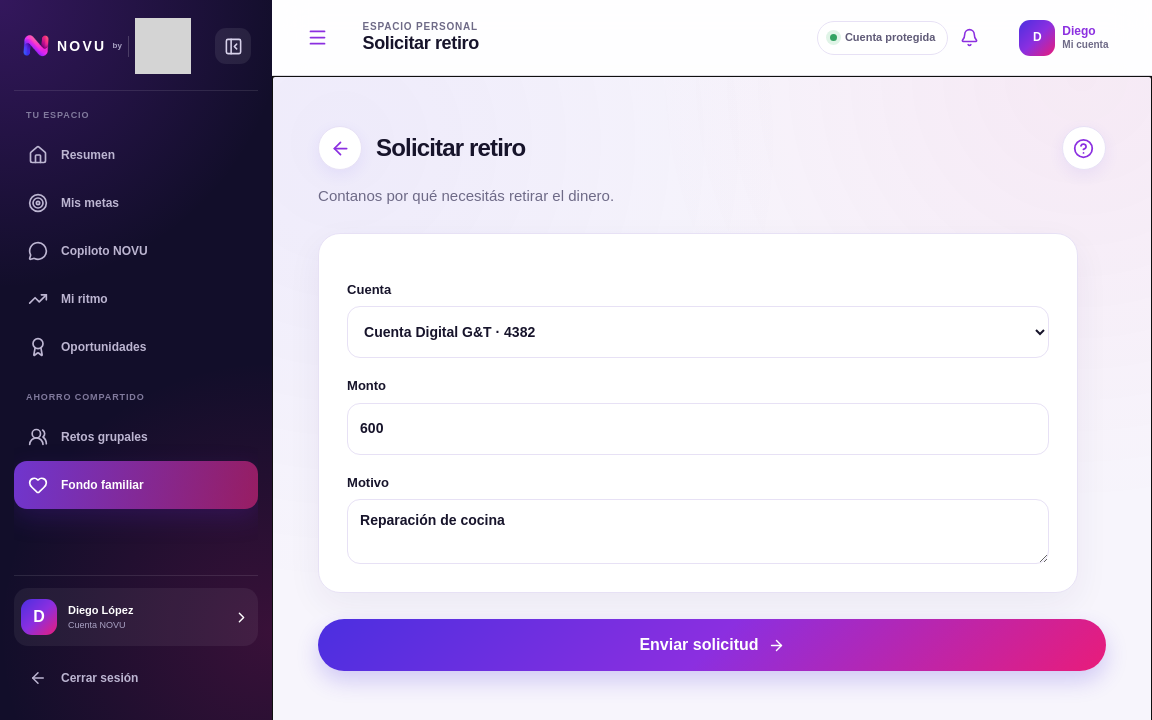
Test: solicitudes del fondo familiar › crea una solicitud y la incorpora al listado
Replace the text in the number field labelled "Monto" with "350" at (698, 429), box x1=347 y1=403 x2=1049 y2=455
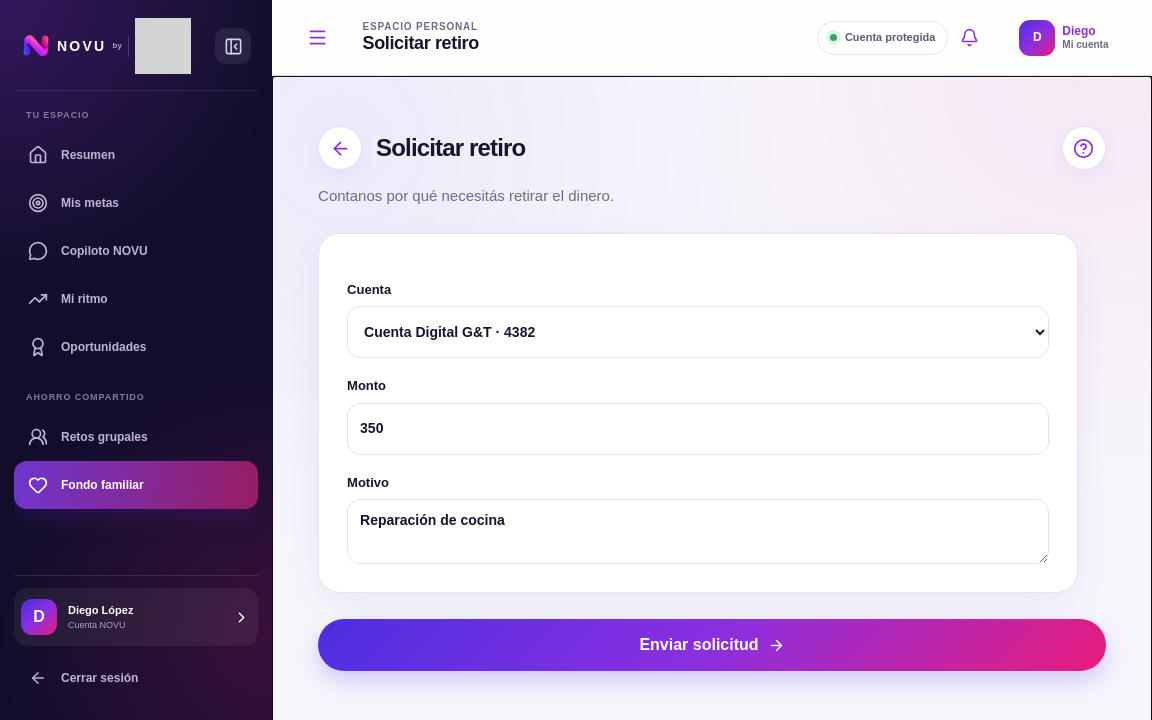
Replace the text in the text box labelled "Motivo" with "Compra de medicamentos" at (698, 532), box x1=347 y1=499 x2=1049 y2=564
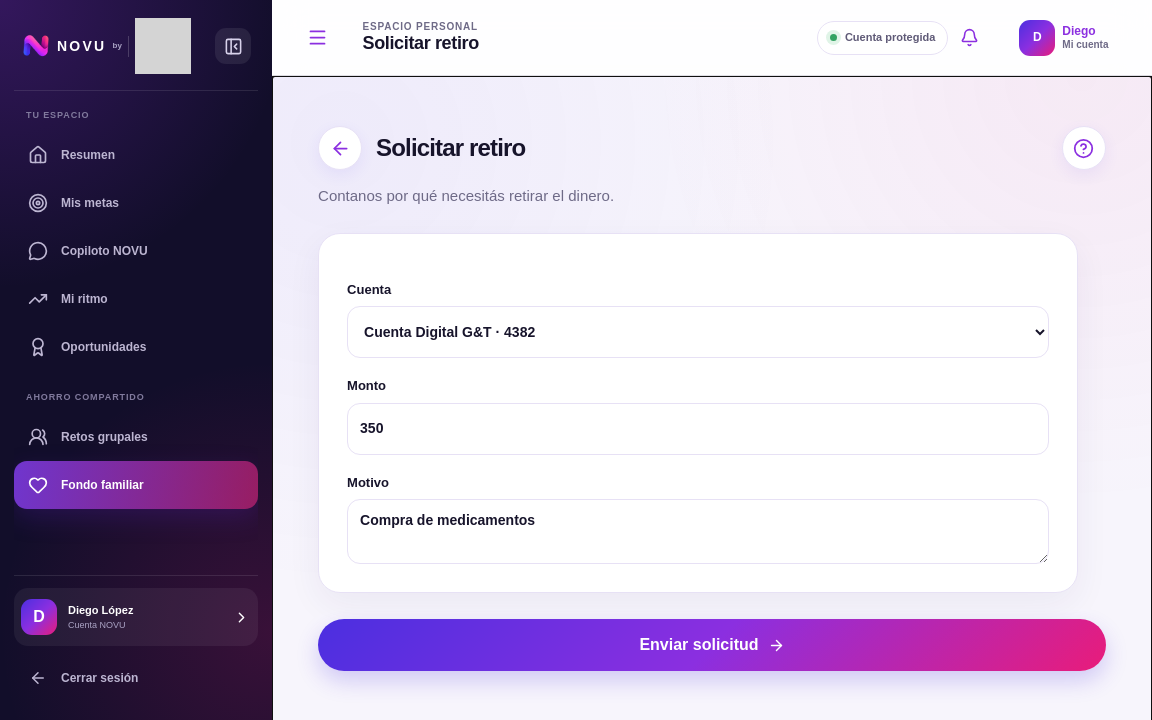
Click the button "Enviar solicitud".
click(712, 645)  # box x1=318 y1=619 x2=1106 y2=671
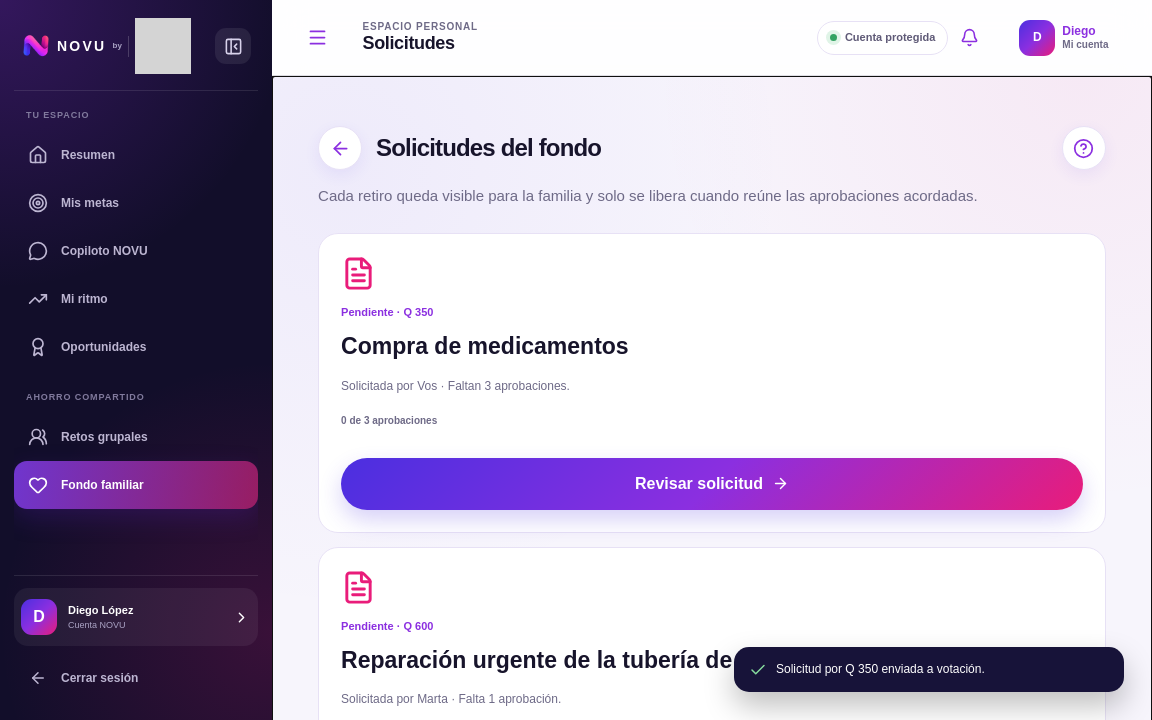
Expected: the heading "Compra de medicamentos" is shown, x1=341 y1=333 x2=629 y2=359
Expected: the text "Pendiente · Q 350" is shown, x1=341 y1=306 x2=433 y2=318
